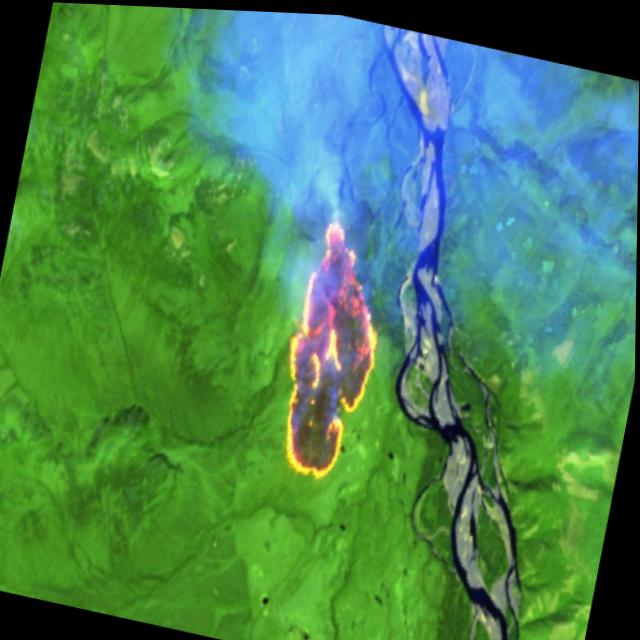fire: (259, 203, 403, 488)
